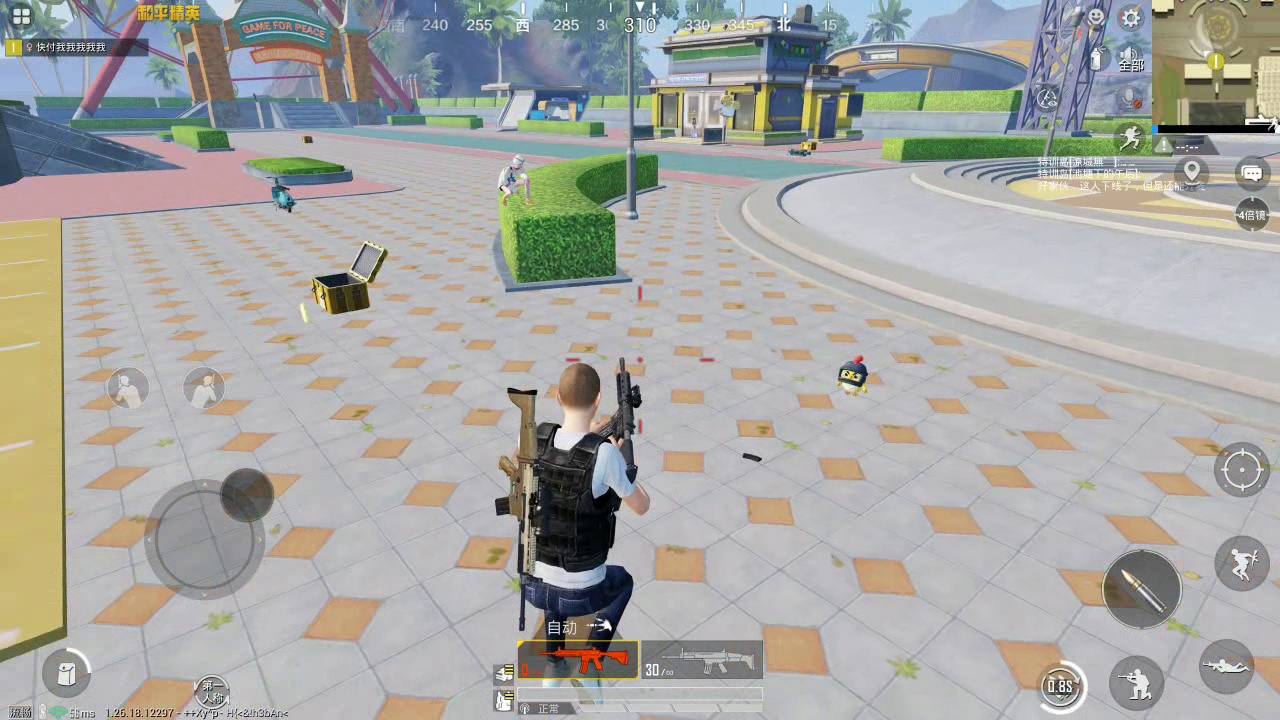enemy: (495, 155, 536, 209)
